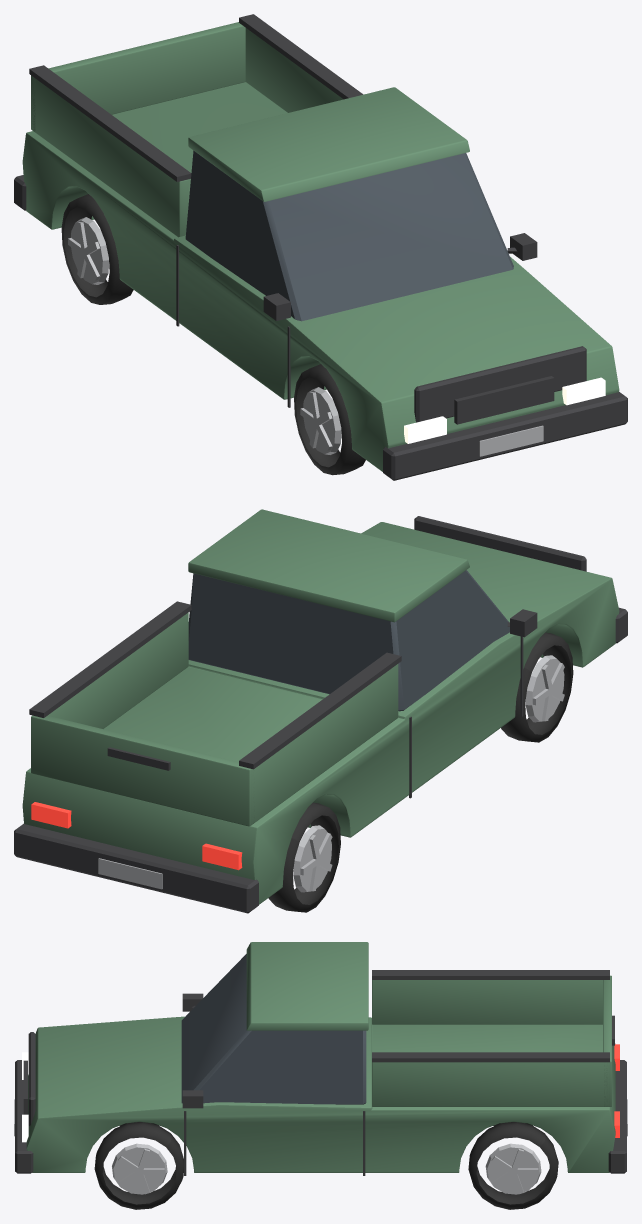
Rendered from pickup.glb.
3 views of the same model, one above another, from view 1: azimuth 30°, elevation 25°; view 2: azimuth 150°, elevation 25°; view 3: azimuth 270°, elevation 25° (orthographic). The views are drawn at different scales.
Parts seen in each view (by area): view 1: pickup; view 2: pickup; view 3: pickup.
Boxes of the visible parts, bbox=[...] form: pickup: bbox=[14, 14, 627, 480]; pickup: bbox=[14, 509, 627, 913]; pickup: bbox=[14, 942, 627, 1209].
Size of the model in its own units: 2.14 by 1.8 by 5.42.
